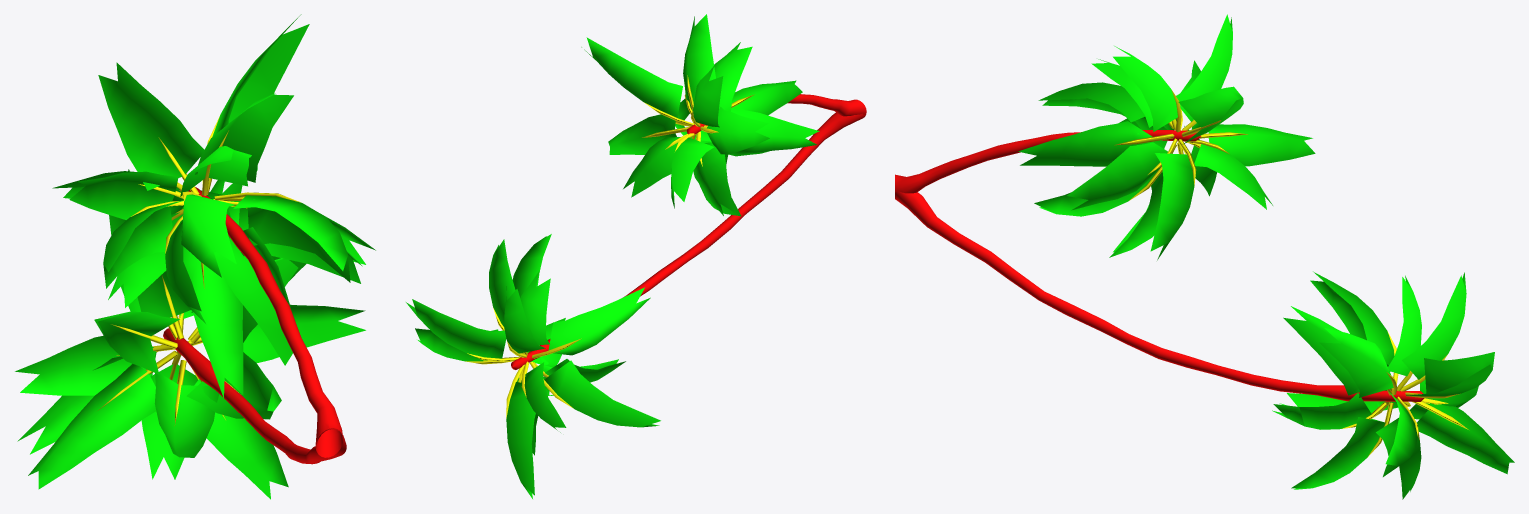
Rendered from M_P10_Tree_15.FBX.
The picture shows the model from 3 angles, left to right: view 1: azimuth 30°, elevation 25°; view 2: azimuth 150°, elevation 25°; view 3: azimuth 270°, elevation 25°; orthographic projection. The views are drawn at different scales.
Visible parts, largest first — view 1: M_P10_Tree_15_LOD0; view 2: M_P10_Tree_15_LOD0; view 3: M_P10_Tree_15_LOD0.
Boxes of the visible parts, x1=… form: M_P10_Tree_15_LOD0: x1=15, y1=14, x2=375, y2=499; M_P10_Tree_15_LOD0: x1=406, y1=14, x2=866, y2=498; M_P10_Tree_15_LOD0: x1=895, y1=14, x2=1514, y2=499.
Size of the model in its own units: 373 by 594 by 451.
